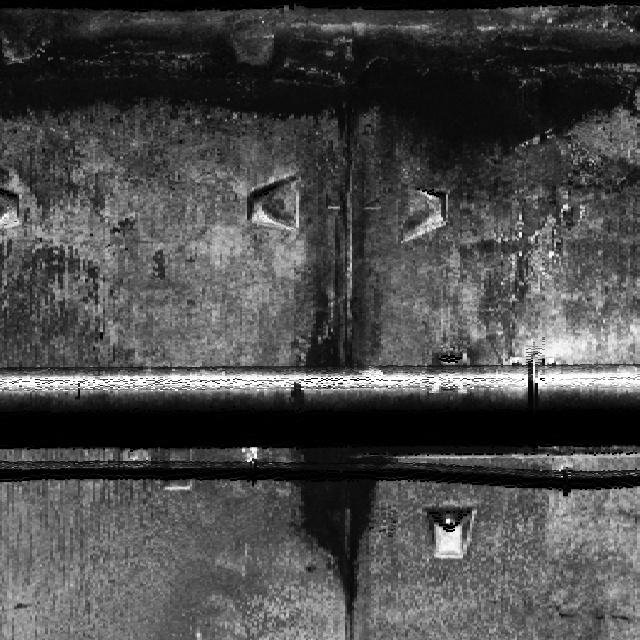leakage: (0, 0, 633, 166), (288, 447, 385, 639), (302, 170, 384, 368)
